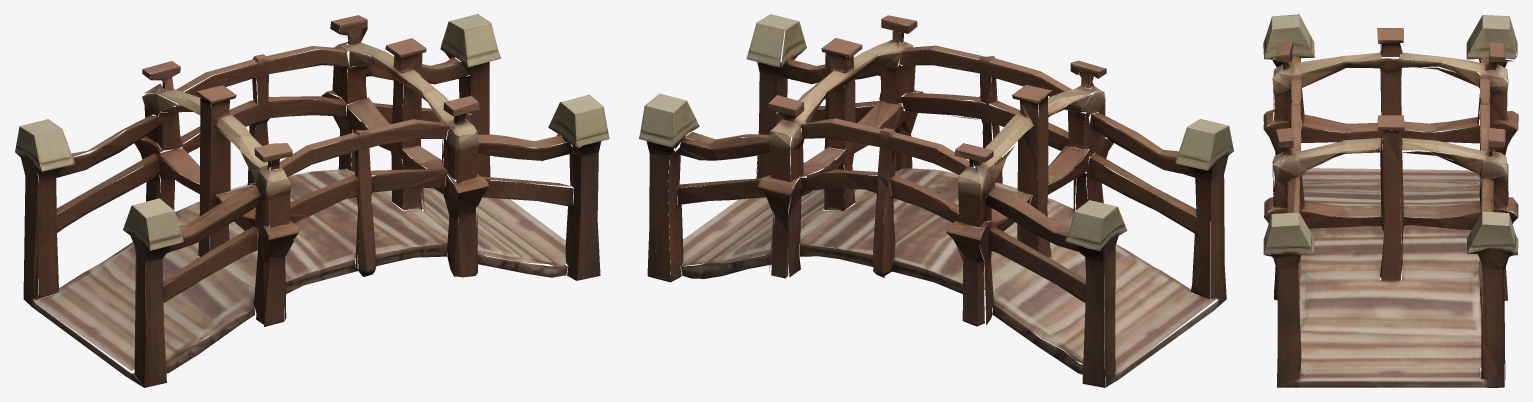
Rendered from bridge_arch.glb.
3 renders of one model, left to right at view 1: azimuth 30°, elevation 25°; view 2: azimuth 150°, elevation 25°; view 3: azimuth 270°, elevation 25°, orthographic. The views are drawn at different scales.
Visible parts, largest first — view 1: geometry_0; view 2: geometry_0; view 3: geometry_0.
Part boxes in pixels (x1,y1,x2,y2): geometry_0: (15, 14, 609, 387); geometry_0: (639, 14, 1233, 387); geometry_0: (1263, 14, 1518, 387).
Bounding box in the file's own units: 1 × 0.4534 × 0.5084.
1 material, 1 textured.
